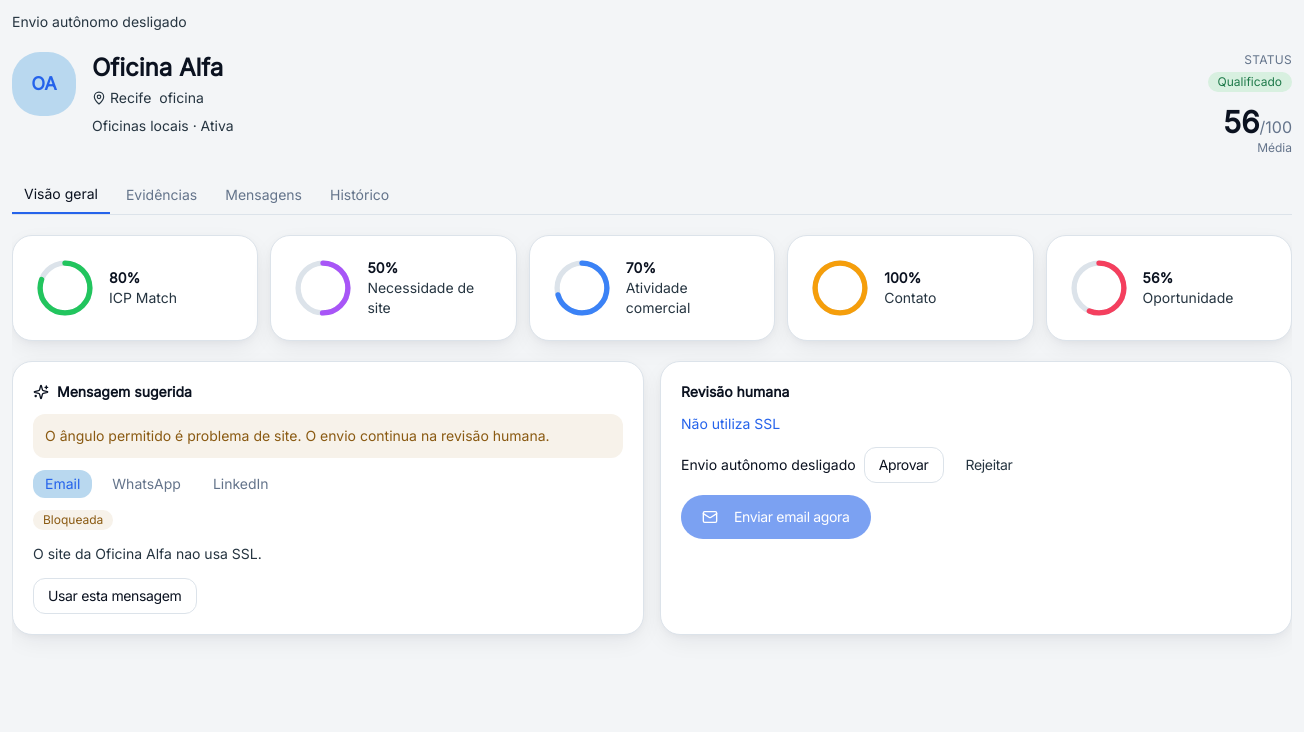
Scenario: SdrWorkspace › renders the prospect as cards and keeps page text out of the recommendation
expect the heading "Oficina Alfa" is shown: met, box left=92, top=52, right=234, bottom=84
expect the text "Recife" is shown: met, box left=92, top=88, right=151, bottom=108
Click the tab "Histórico" at point(360, 195), box left=318, top=176, right=401, bottom=214
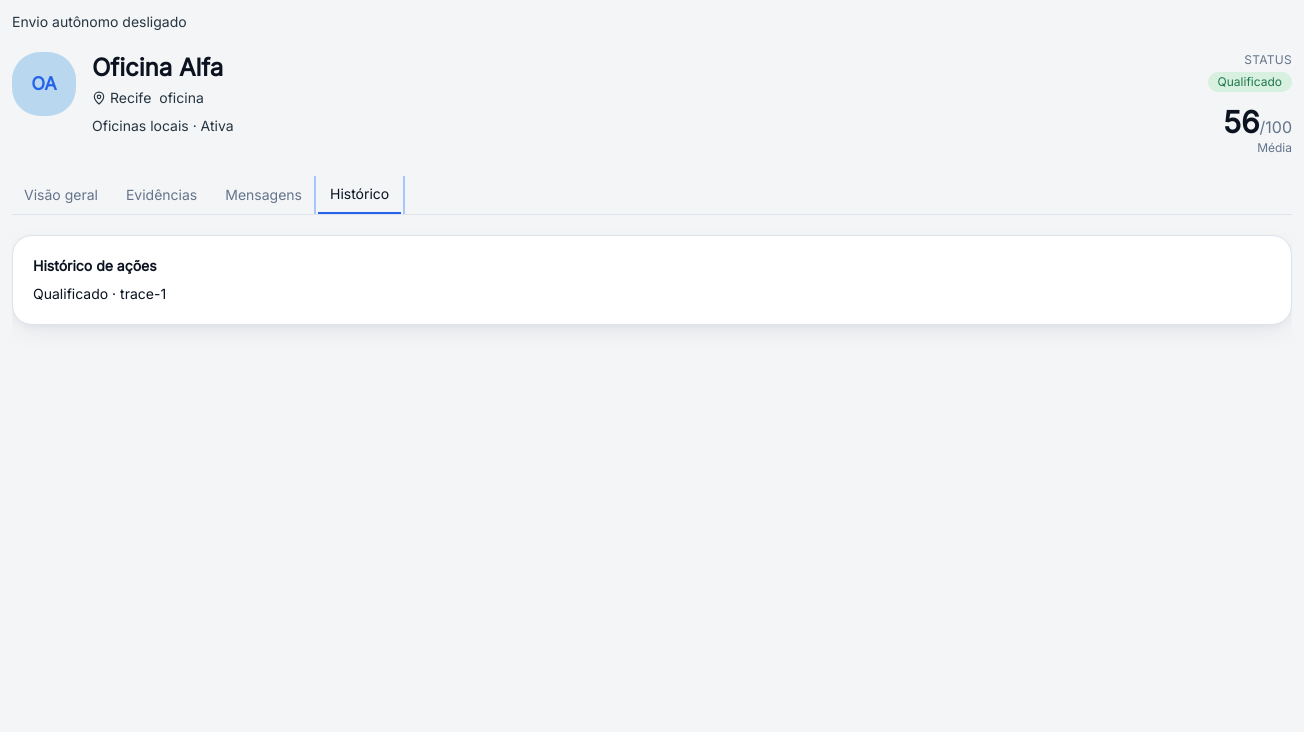
expect the text "Qualificado · trace-1" is shown: met, box left=33, top=285, right=166, bottom=302
Click the tab "Visão geral" at point(61, 195), box left=12, top=176, right=110, bottom=214
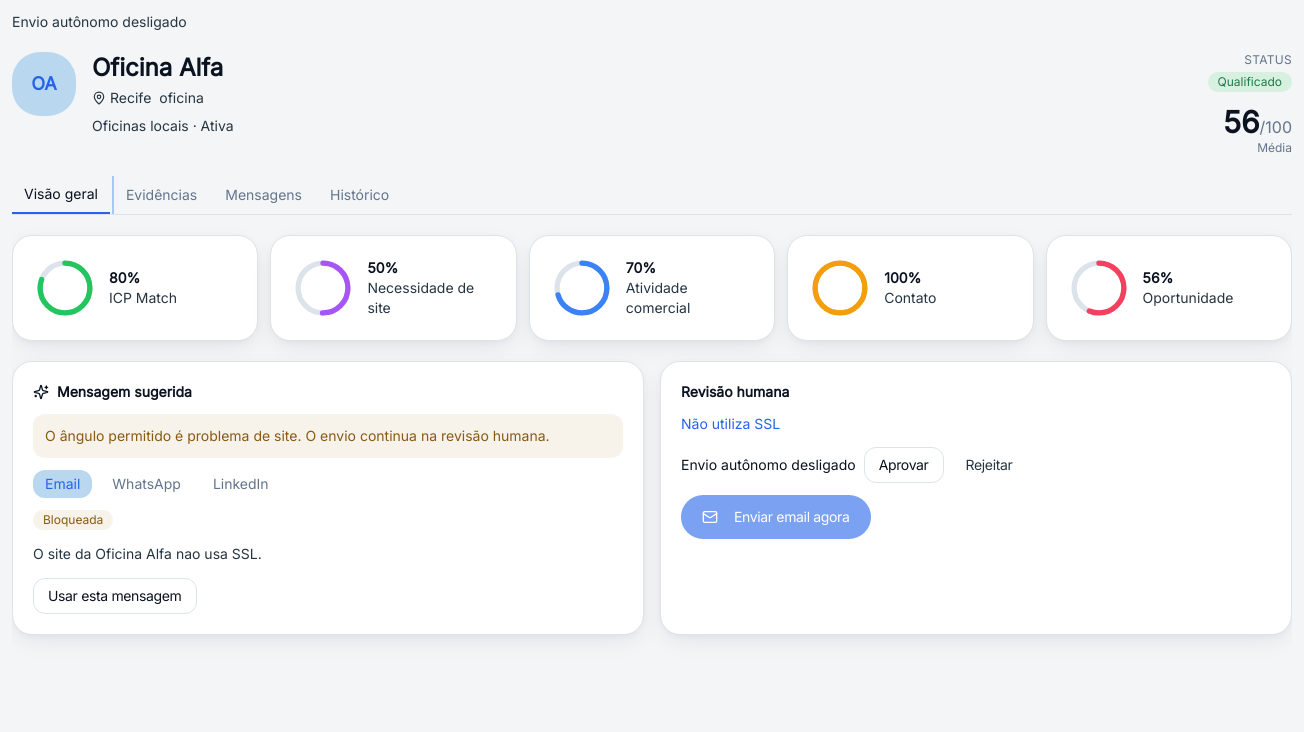
Click the button "Aprovar" at point(904, 465), box left=864, top=447, right=944, bottom=483
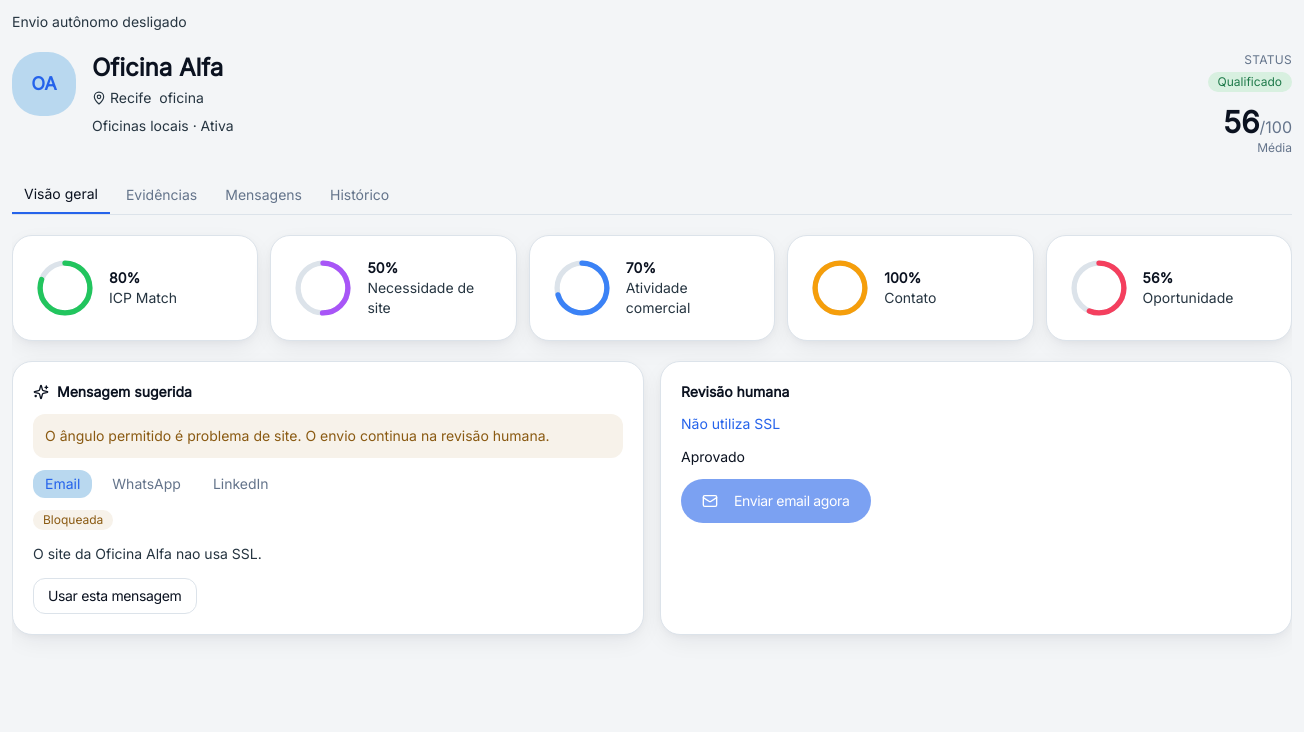
expect the text "Aprovado" is shown: met, box left=681, top=448, right=745, bottom=465
expect the button "Aprovar" is gone: met
